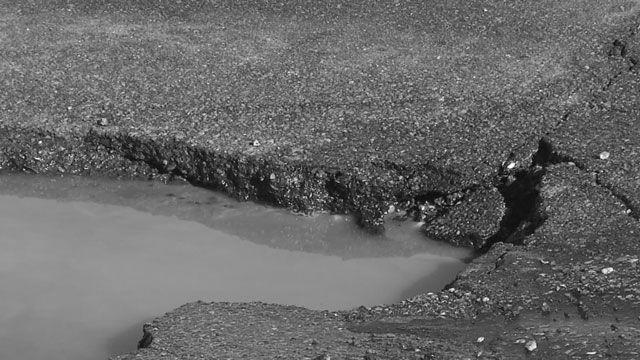Pothole: (0, 143, 574, 360)
